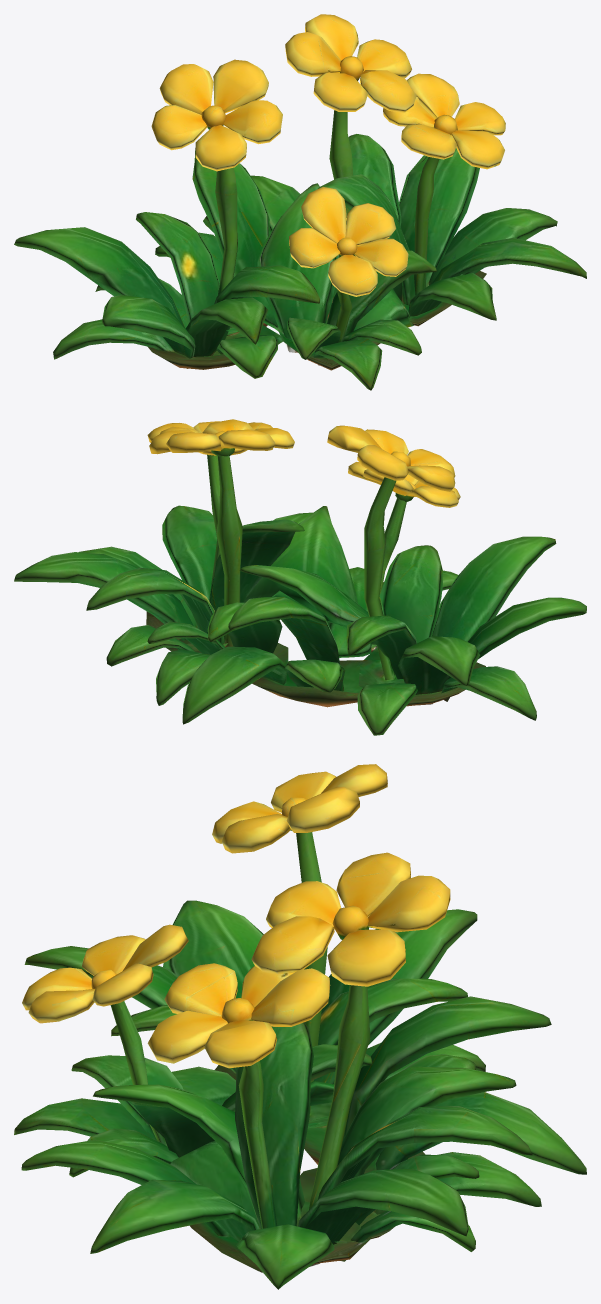
File: s2_r3c3_yellow_wildflower_patch.glb
3 renders of one model, top to bottom at view 1: azimuth 30°, elevation 25°; view 2: azimuth 150°, elevation 25°; view 3: azimuth 270°, elevation 25°, orthographic. The views are drawn at different scales.
Size of the model in its own units: 1 by 0.5508 by 0.7514.
Materials: 1 (1 with a texture image).
